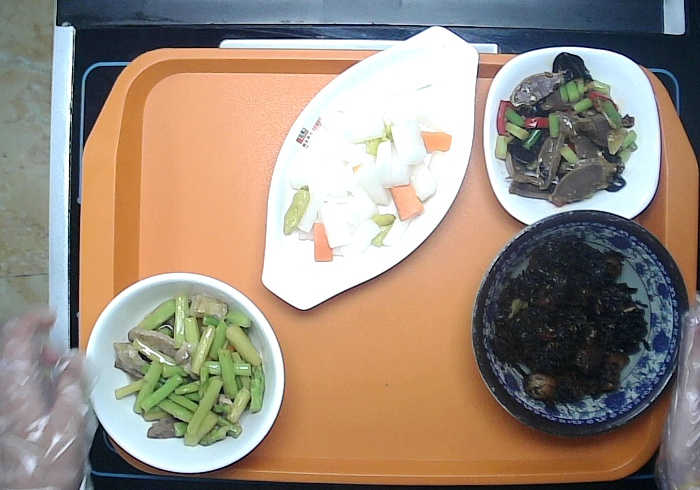ZNLD-Qing_Hua_Wan: (473, 209, 692, 435)
ZNLD-Si_Fang_Wan: (486, 44, 662, 228)
ZNLD-Tang_Wan: (83, 268, 283, 476)
ZNLD-Yu_Pan: (259, 23, 478, 308)
